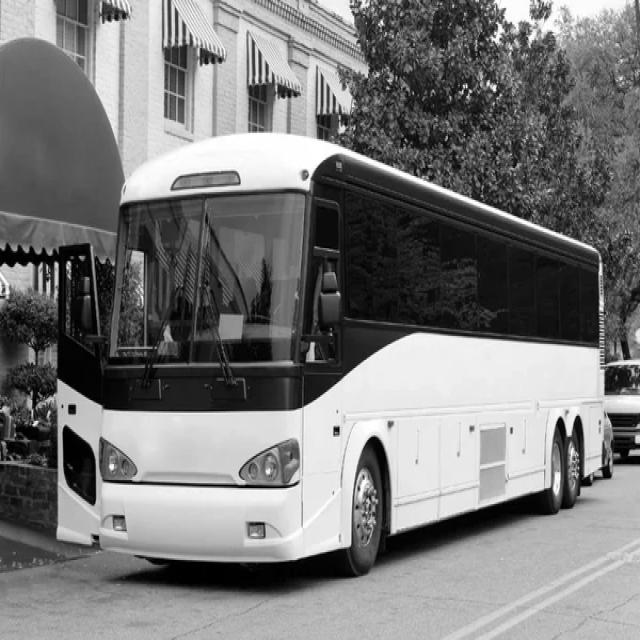Bus: (56, 121, 614, 574)
